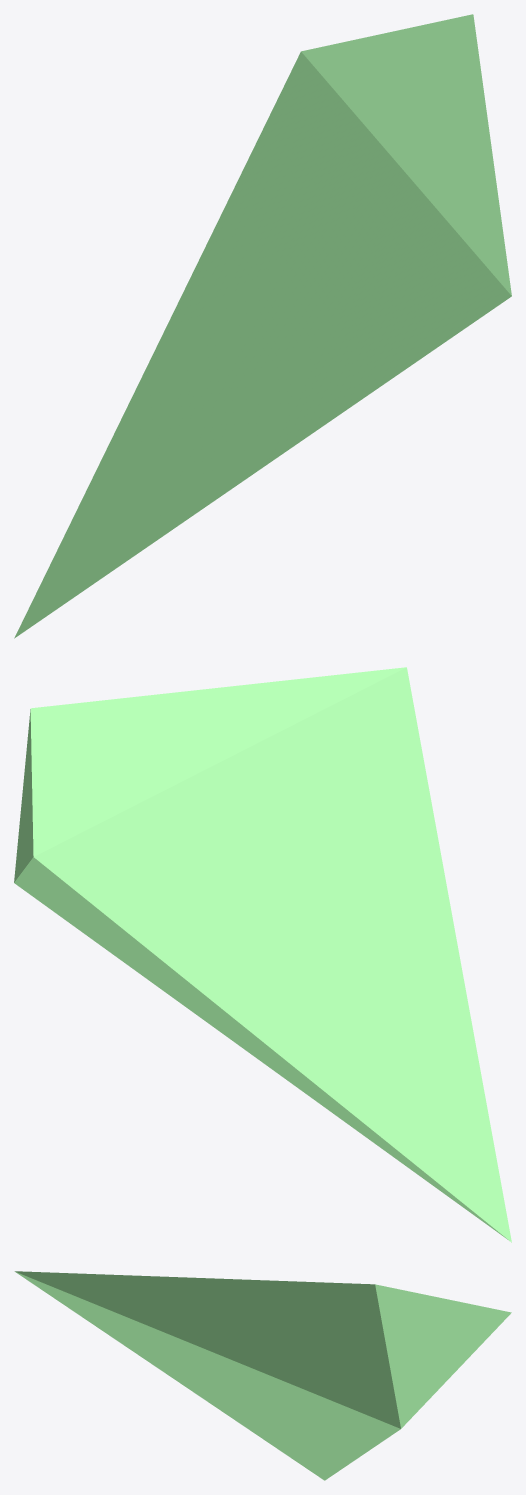
File: linkhou_LR4_R560_link6_respondable_coll_3.dae
3 renders of one model, top to bottom at view 1: azimuth 30°, elevation 25°; view 2: azimuth 150°, elevation 25°; view 3: azimuth 270°, elevation 25°, orthographic. The views are drawn at different scales.
Parts seen in each view (by area): view 1: Node_00000209DB3AD090; view 2: Node_00000209DB3AD090; view 3: Node_00000209DB3AD090.
Boxes of the visible parts, bbox=[...] form: Node_00000209DB3AD090: bbox=[14, 14, 511, 638]; Node_00000209DB3AD090: bbox=[14, 667, 511, 1242]; Node_00000209DB3AD090: bbox=[14, 1271, 511, 1480].
Bounding box in the file's own units: 0.011 × 0.0103 × 0.0119.
